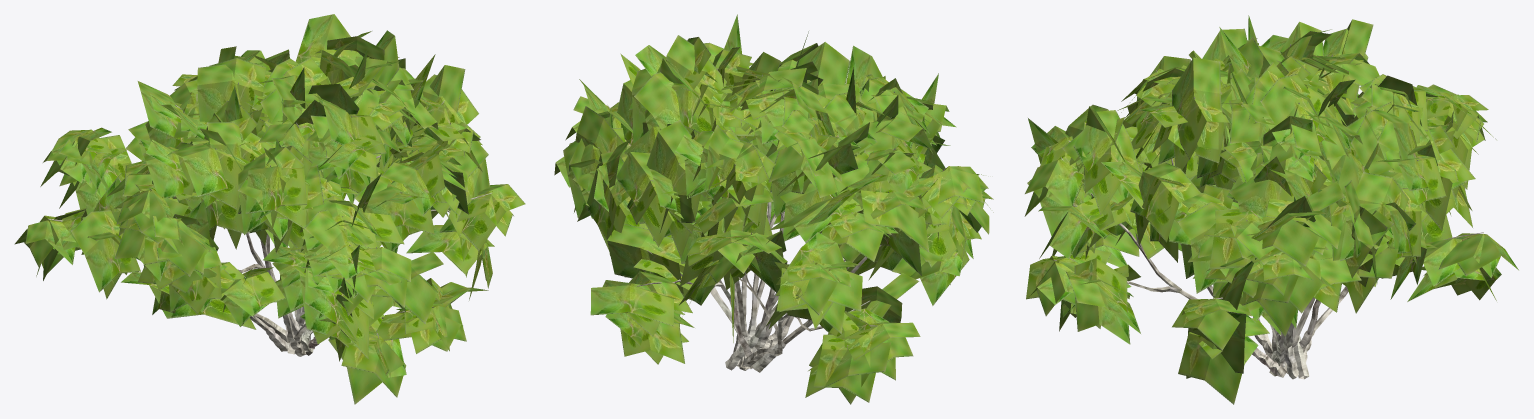
File: bush_3.obj
3 views of the same model, side by side, from view 1: azimuth 30°, elevation 25°; view 2: azimuth 150°, elevation 25°; view 3: azimuth 270°, elevation 25° (orthographic). The views are drawn at different scales.
Visible parts, largest first — view 1: Bush_1_4; view 2: Bush_1_4; view 3: Bush_1_4.
Boxes of the visible parts, x1,y1,x2,y2 form: Bush_1_4: [14, 14, 525, 404]; Bush_1_4: [554, 14, 993, 404]; Bush_1_4: [1024, 15, 1518, 404].
Size of the model in its own units: 0.6485 by 0.484 by 0.6487.
1 material, 1 textured.
